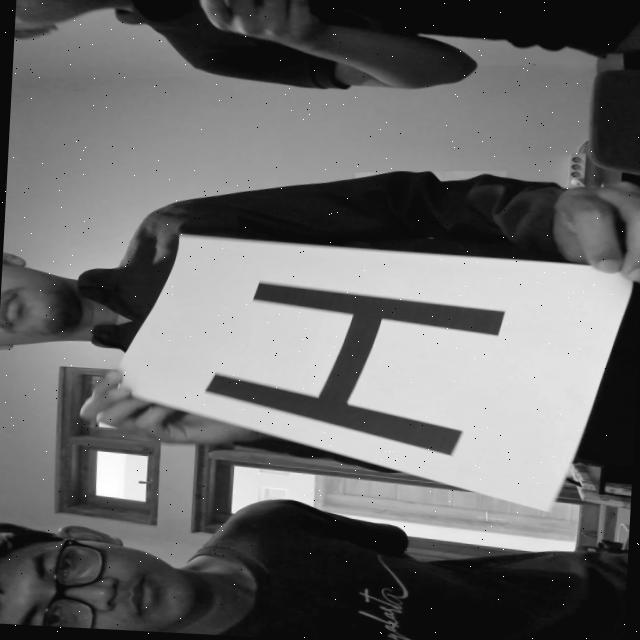h: (184, 270, 528, 462)
